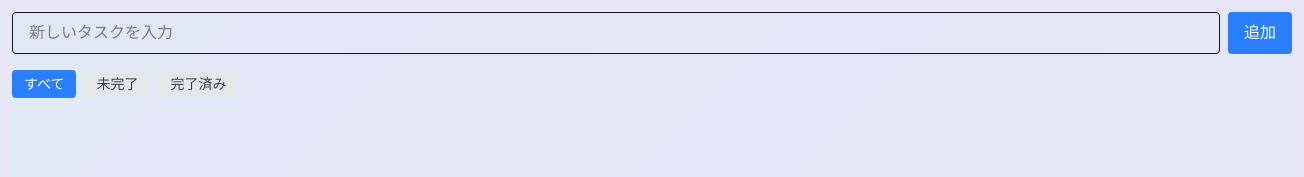
Scenario: TodoList › エンターキーでタスクを追加できる
Step 1. Type "新しいタスク" into the field with placeholder "新しいタスクを入力" → (616, 33), box left=12, top=12, right=1220, bottom=54
Then press Enter
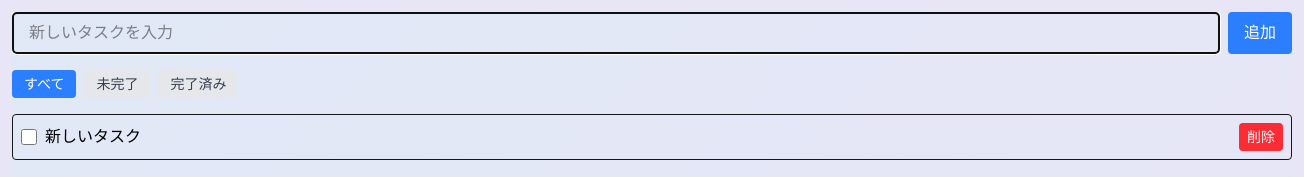
Expected: the text "新しいタスク" is shown, left=45, top=125, right=141, bottom=149
